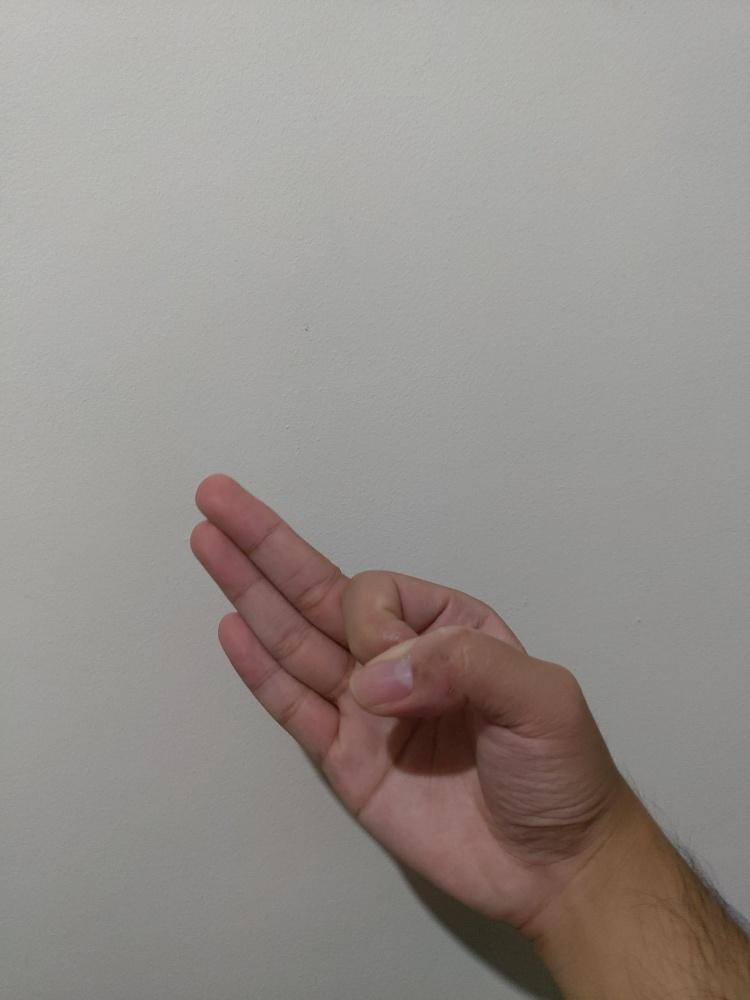f: (191, 470, 620, 930)
